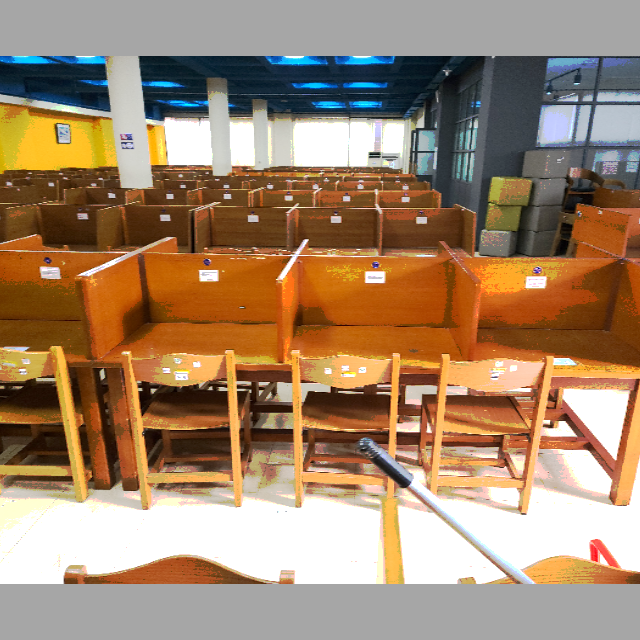empty: (288, 238, 476, 425), (103, 239, 281, 427), (483, 235, 640, 422)
